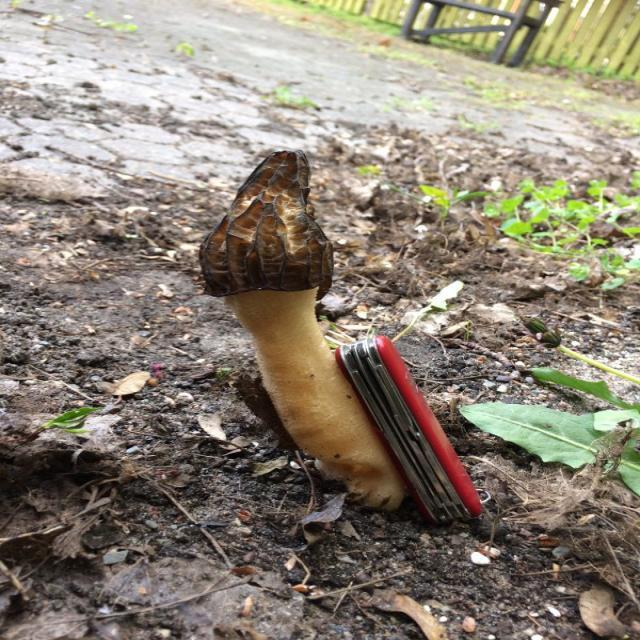Morchella esculenta: (203, 143, 401, 499)
